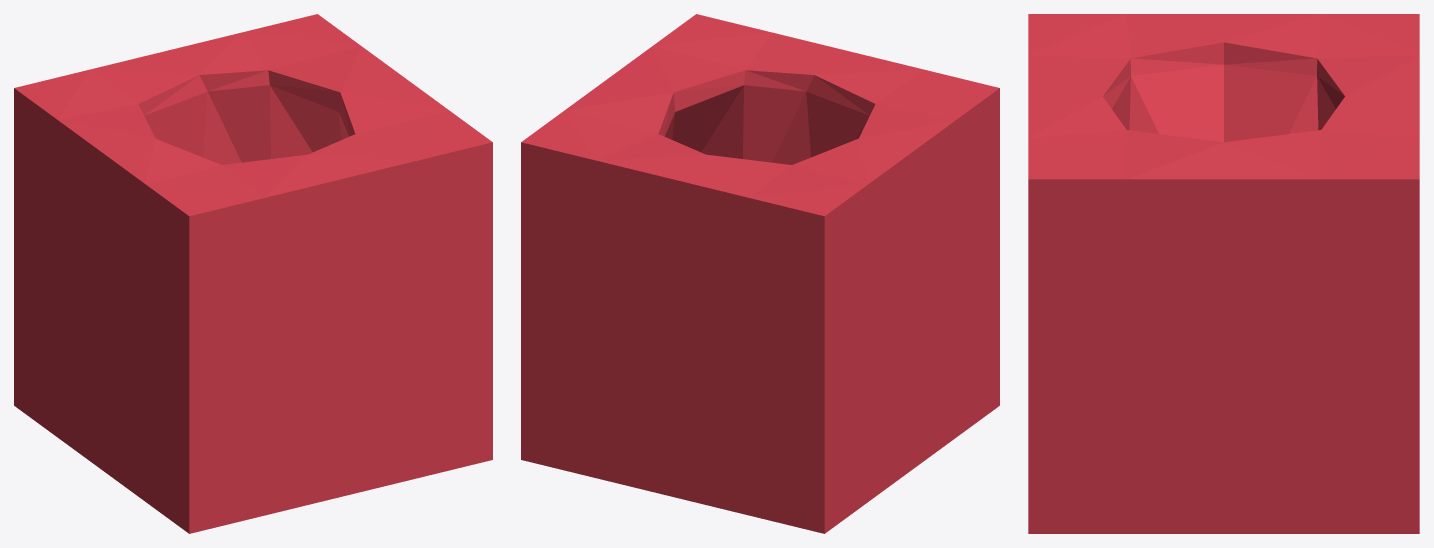
The model's file is hole.dae.
3 renders of one model, left to right at view 1: azimuth 30°, elevation 25°; view 2: azimuth 150°, elevation 25°; view 3: azimuth 270°, elevation 25°, orthographic. The views are drawn at different scales.
Parts seen in each view (by area): view 1: Cube; view 2: Cube; view 3: Cube.
Part boxes in pixels (x1,y1,x2,y2): Cube: [14, 14, 492, 533]; Cube: [521, 14, 999, 533]; Cube: [1028, 14, 1419, 533].
Size of the model in its own units: 2 by 2 by 2.01.
